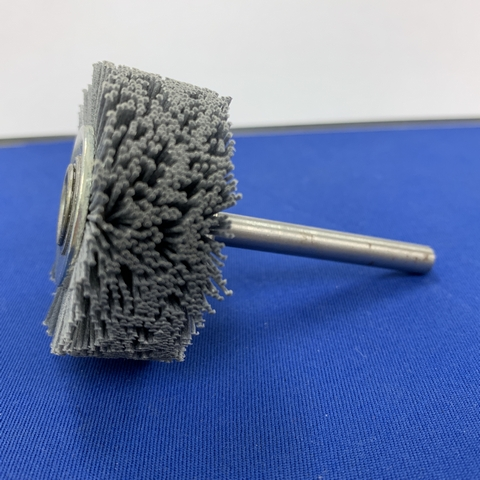Wheel Brush: (63, 64, 432, 361), (41, 74, 424, 360), (56, 92, 442, 332)
